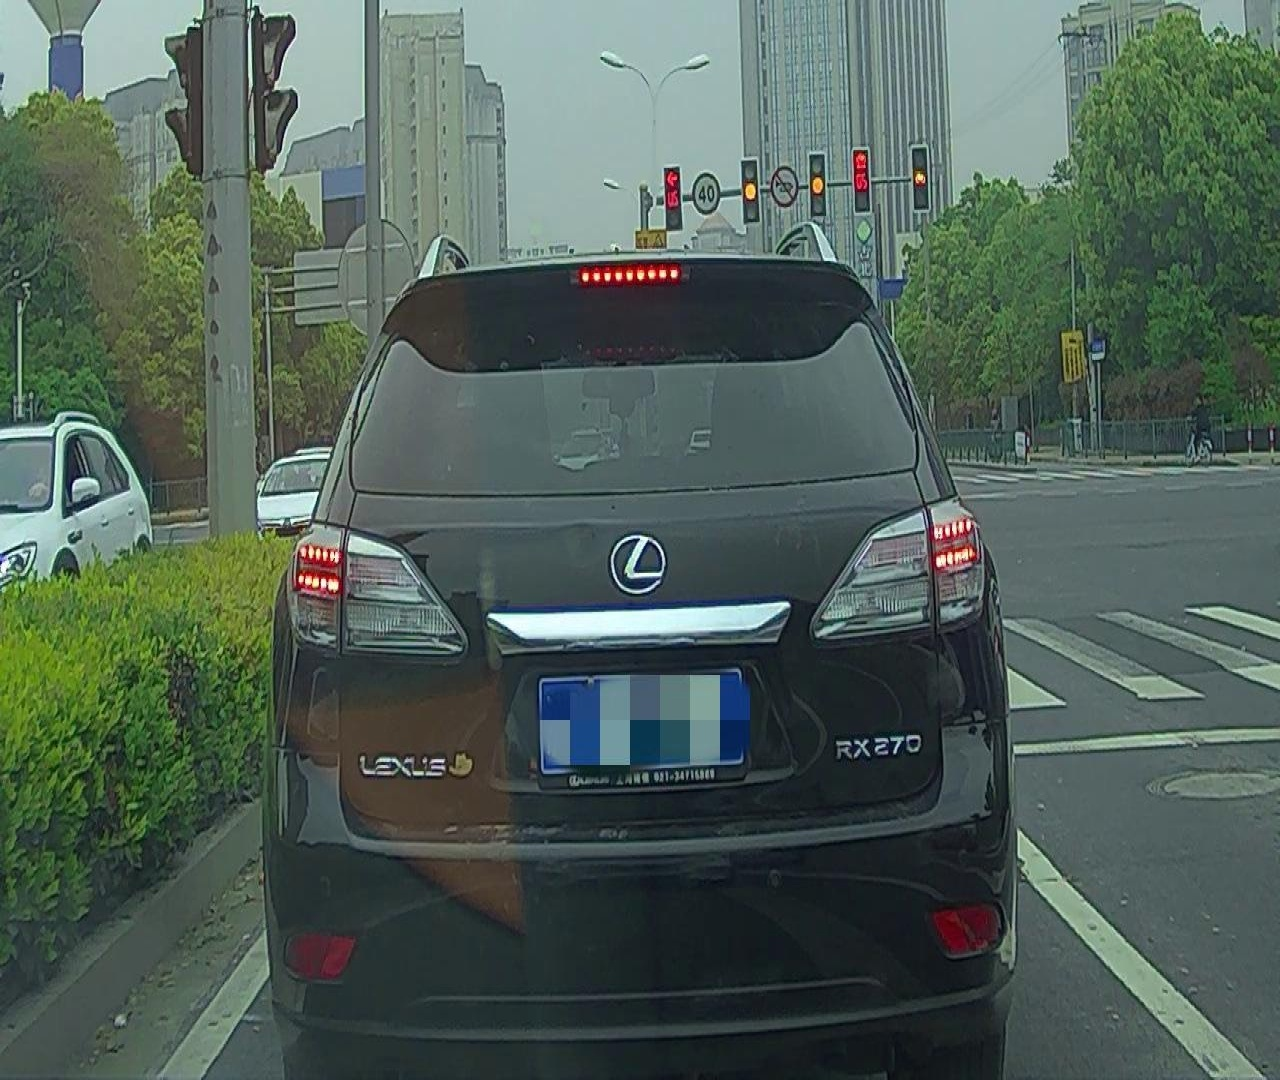red: (853, 148, 871, 213), (664, 168, 681, 229)
yellow: (809, 153, 826, 216), (743, 157, 761, 220), (914, 145, 929, 207)
